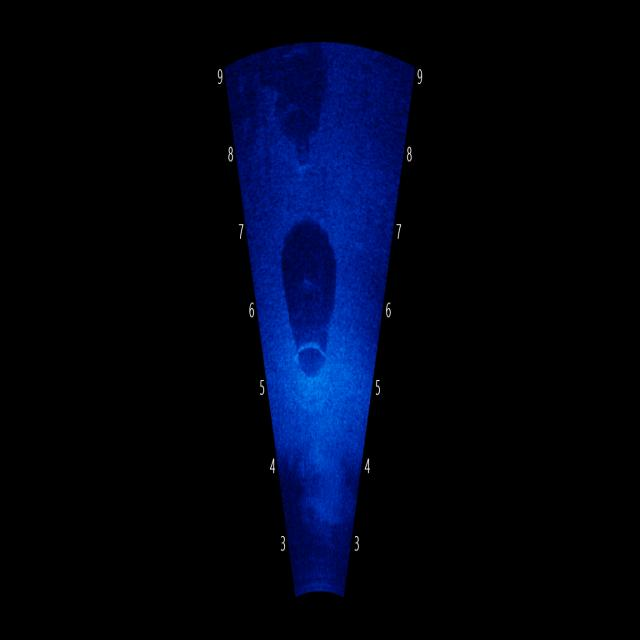circle: (277, 314, 346, 432)
